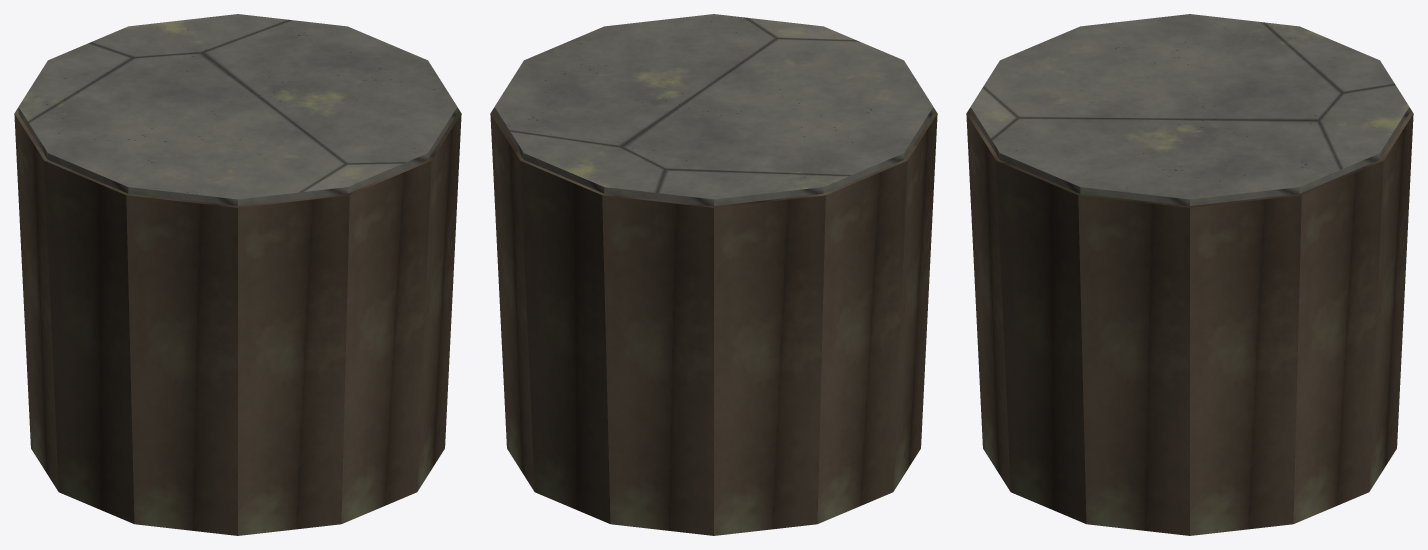
Rendered from Stump_2.fbx.
3 views of the same model, side by side, from view 1: azimuth 30°, elevation 25°; view 2: azimuth 150°, elevation 25°; view 3: azimuth 270°, elevation 25° (orthographic).
Parts seen in each view (by area): view 1: Stump_2; view 2: Stump_2; view 3: Stump_2.
Part boxes in pixels (box(x1,y1,x2,y2)): Stump_2: box(14, 14, 461, 535); Stump_2: box(490, 14, 937, 535); Stump_2: box(966, 14, 1413, 535).
Size of the model in its own units: 0.6048 by 0.51 by 0.6048.
